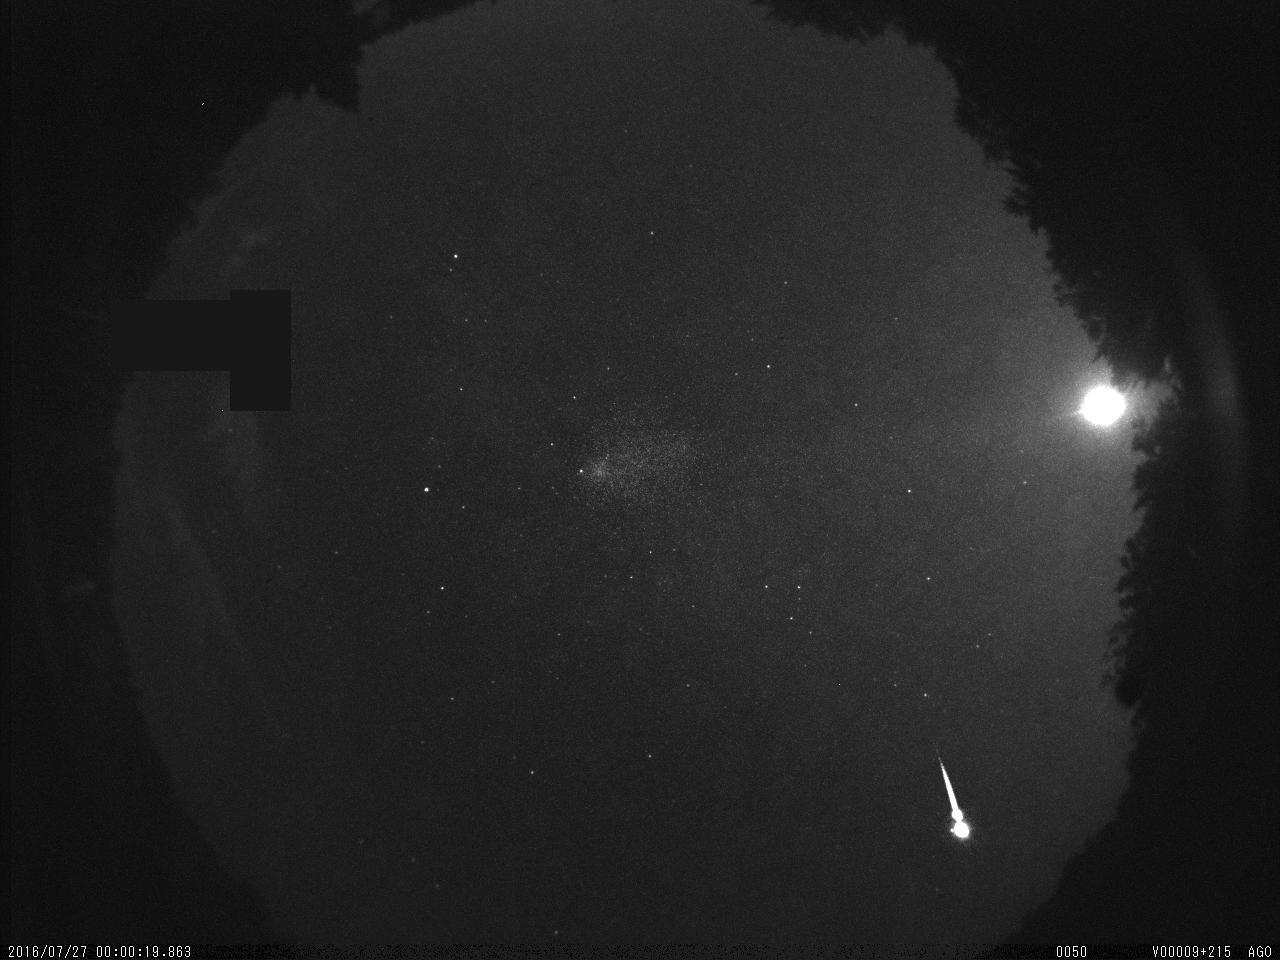meteor: (894, 733, 1000, 864)
